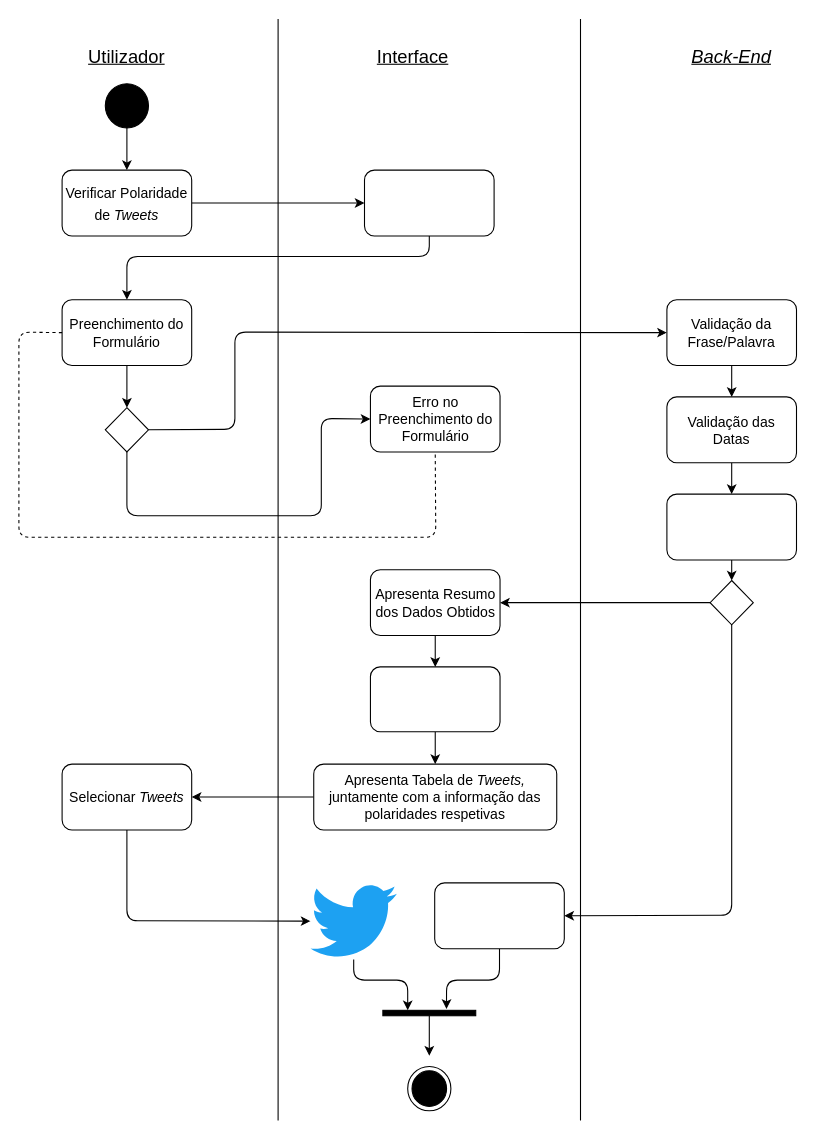
Image size: 815x1140. Some labels were removed from this diagram. Each missing label, with the box of its shape:
Apresenta Formulário: (363, 169, 494, 236)
Apresenta legenda das polaridades: (369, 666, 500, 732)
Consulta BD: (666, 493, 796, 560)
Resultados não encontrados: (434, 882, 564, 949)
